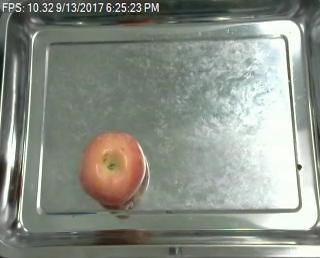apple: (79, 133, 147, 207)
